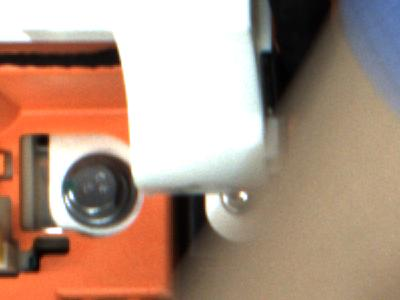nut_b: (58, 151, 131, 231)
